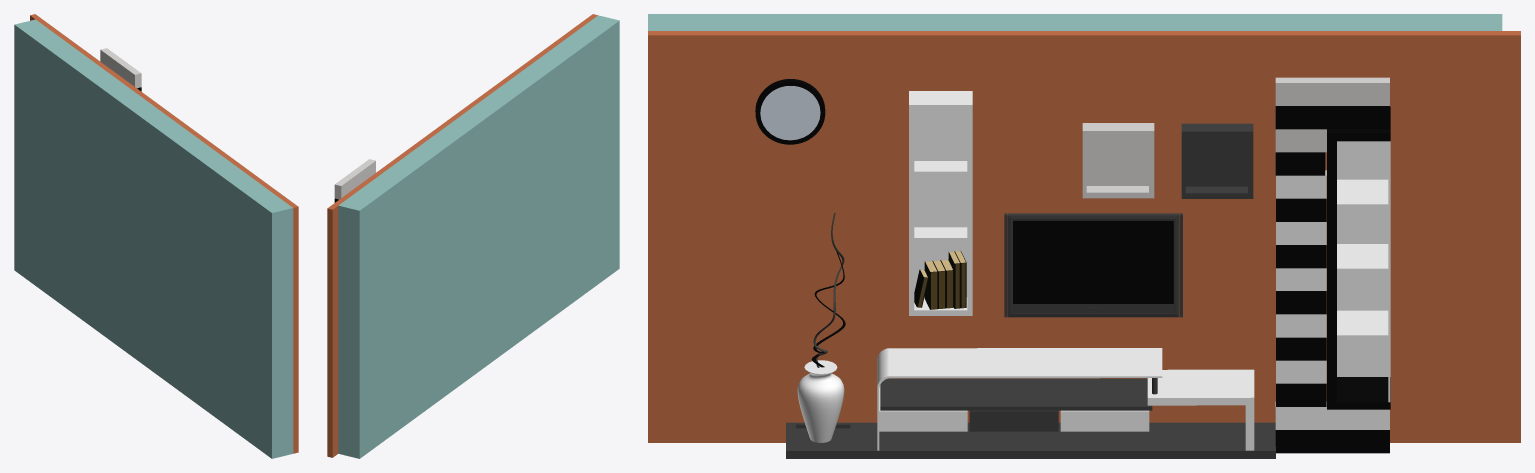
The model's file is homeTV.FBX.
3 views of the same model, side by side, from view 1: azimuth 30°, elevation 25°; view 2: azimuth 150°, elevation 25°; view 3: azimuth 270°, elevation 25° (orthographic). The views are drawn at different scales.
Visible parts, largest first — view 1: Line036, Line2096, Box54; view 2: Line036, Line2096, Box54; view 3: Line2096, Box021, Line036, Object017, Box13, Line021, Box11, Box334, Box62, Box17, ekran, Box20 (+26 smaller).
Part boxes in pixels (box(x1,y1,x2,y2)): Line036: box(14, 19, 293, 458); Line2096: box(30, 14, 298, 453); Box54: box(100, 48, 141, 88); Line036: box(338, 15, 619, 458); Line2096: box(327, 14, 597, 457); Box54: box(334, 159, 375, 199); Line2096: box(648, 31, 1520, 442); Box021: box(786, 422, 1275, 458); Line036: box(648, 14, 1502, 30); Object017: box(1013, 221, 1173, 304); Box13: box(909, 91, 972, 315); Line021: box(877, 348, 1162, 450); Box11: box(880, 378, 1152, 410); Box334: box(1337, 141, 1390, 376); Box62: box(1082, 123, 1154, 198); Box17: box(1181, 123, 1253, 198); ekran: box(1004, 213, 1182, 317); Box20: box(1327, 106, 1390, 409).
Size of the model in its own units: 17.07 by 62.65 by 122.
